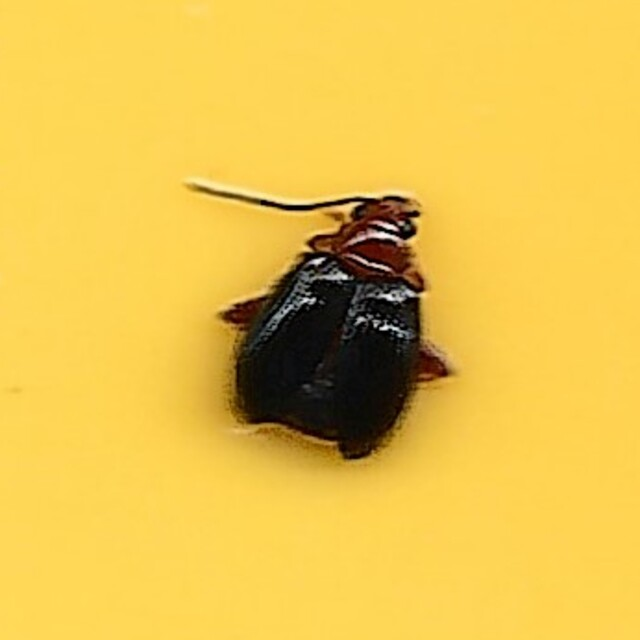Coleoptera: (185, 174, 455, 466)
